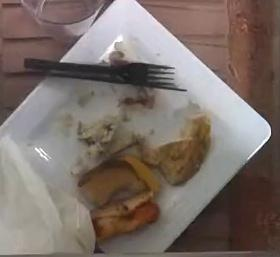peppers: (143, 114, 211, 185), (124, 156, 159, 192)
pizza_crust: (91, 190, 159, 240)
pork: (78, 159, 148, 208)
